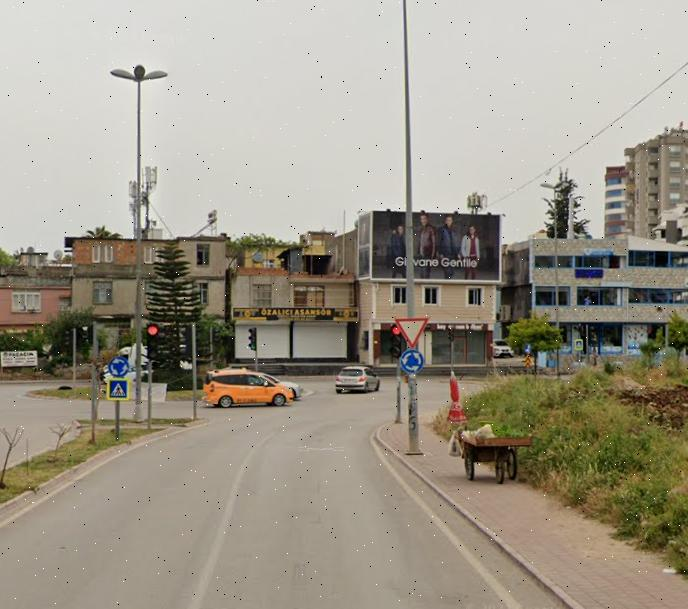crossroads: (401, 350, 424, 373), (110, 357, 127, 377)
greenlight: (248, 325, 258, 353)
redlight: (146, 322, 161, 360), (389, 323, 403, 359)
